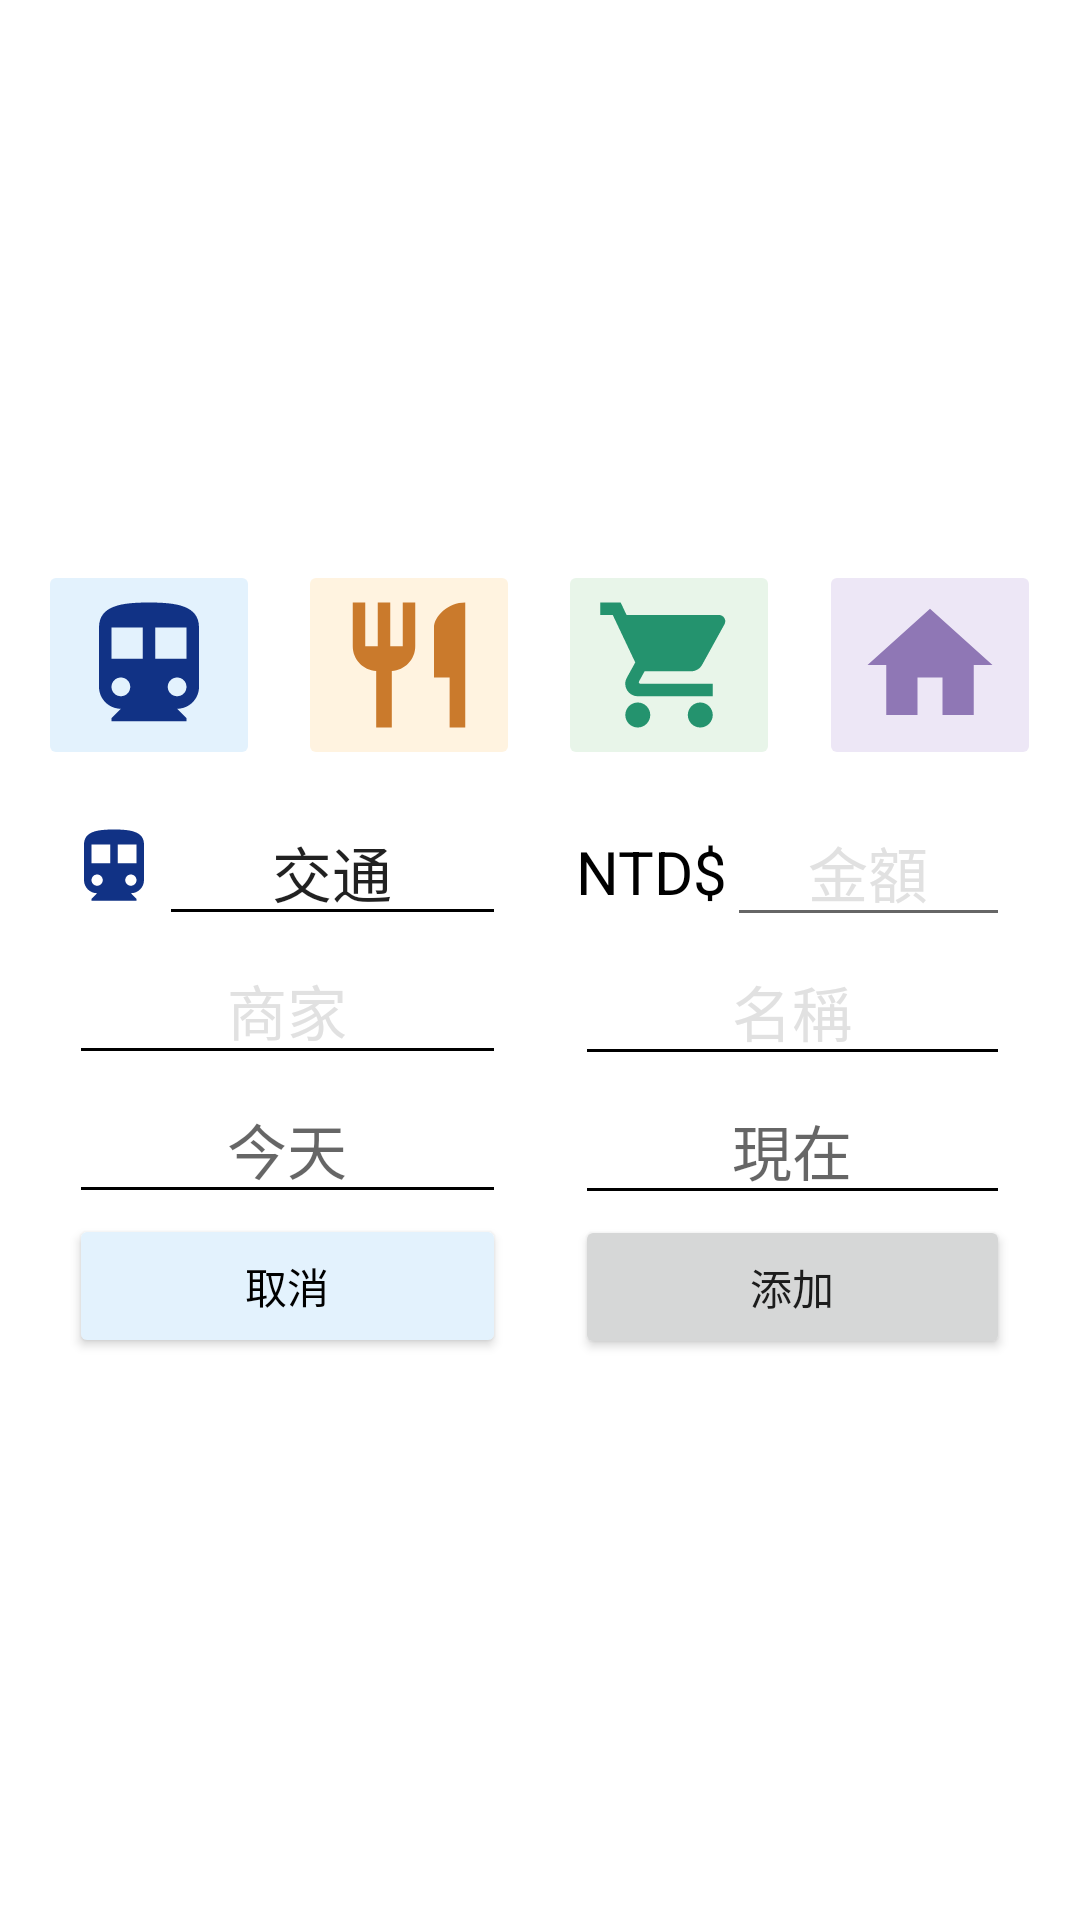

Icons on this 1080w x 1920h Android screen, each with the point to tap as point (x, y):
food: point (409, 665)
home: point (930, 661)
shopping: point (669, 665)
transportation: point (149, 665), point (114, 865)
